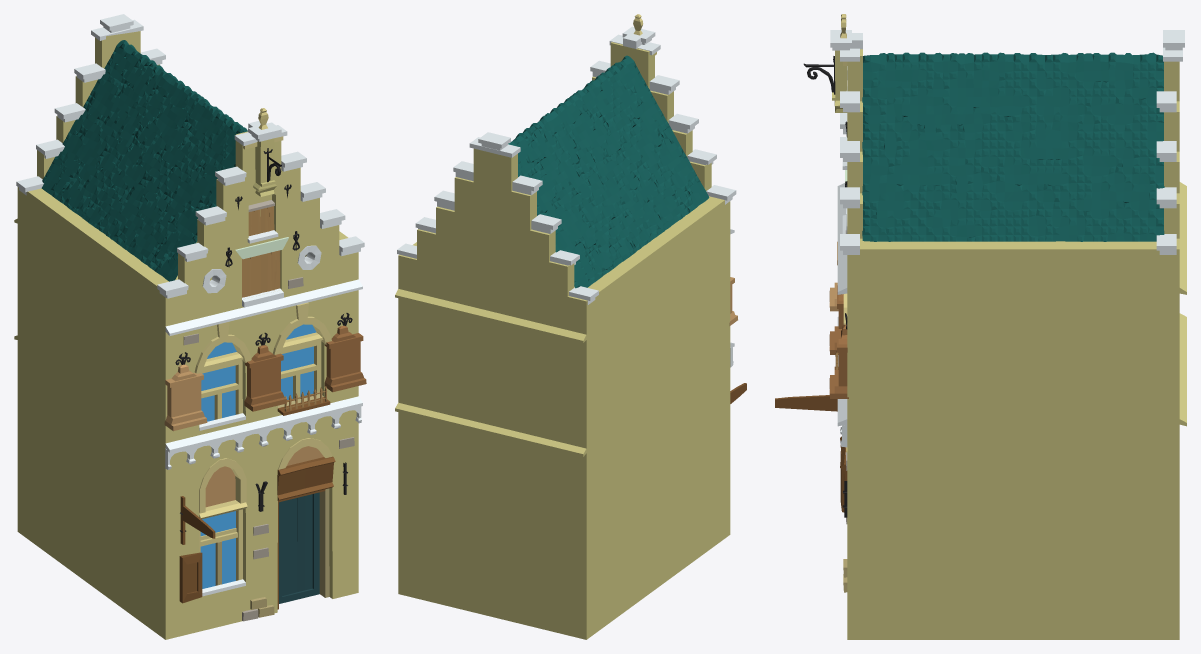
Rendered from EA_TenementHouse_01b.fbx.
3 renders of one model, left to right at view 1: azimuth 30°, elevation 25°; view 2: azimuth 150°, elevation 25°; view 3: azimuth 270°, elevation 25°, orthographic. The views are drawn at different scales.
Parts seen in each view (by area): view 1: EA_TenementHouse_01b_LOD0; view 2: EA_TenementHouse_01b_LOD0; view 3: EA_TenementHouse_01b_LOD0.
Boxes of the visible parts, bbox=[...] form: EA_TenementHouse_01b_LOD0: bbox=[14, 14, 366, 639]; EA_TenementHouse_01b_LOD0: bbox=[395, 14, 746, 639]; EA_TenementHouse_01b_LOD0: bbox=[775, 14, 1186, 639].
Size of what is drawn, in the model's own units: 5.07 by 12.42 by 8.11.
